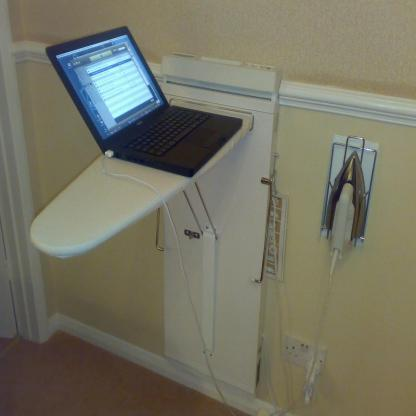board: (45, 26, 243, 179)
